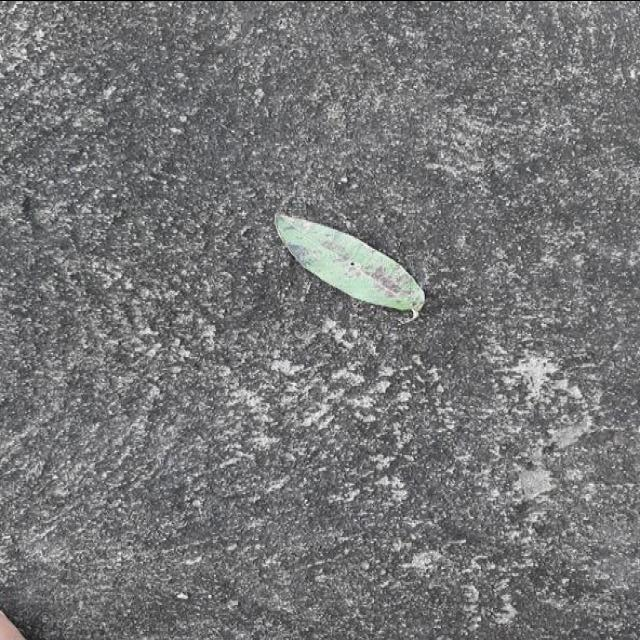leaf: (273, 211, 425, 323)
